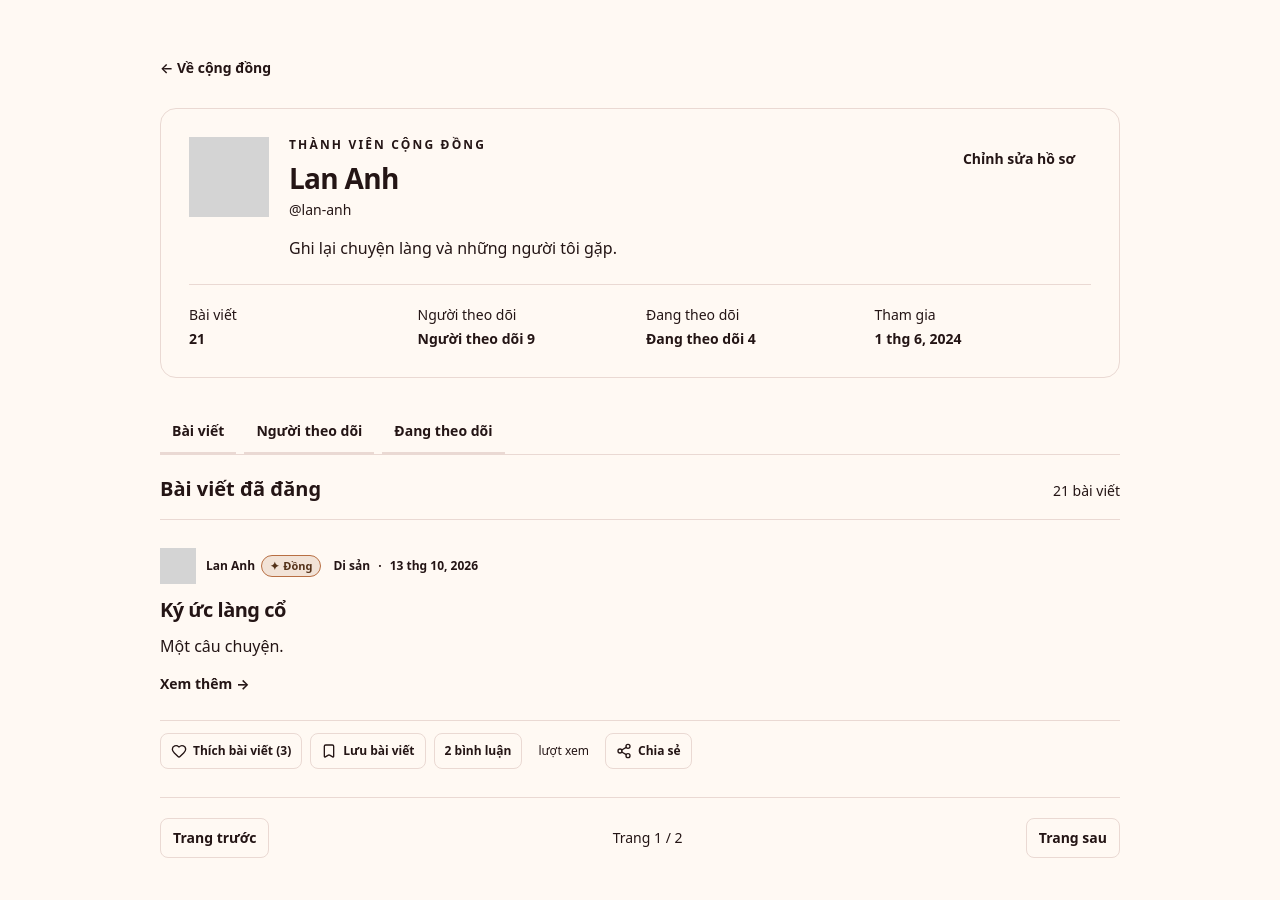
Test: CommunityMemberProfile › lets the owner edit only community identity fields
The width and height of the screenshot is (1280, 900).
Click the button "Chỉnh sửa hồ sơ": (1019, 159) 947,137 -> 1091,181
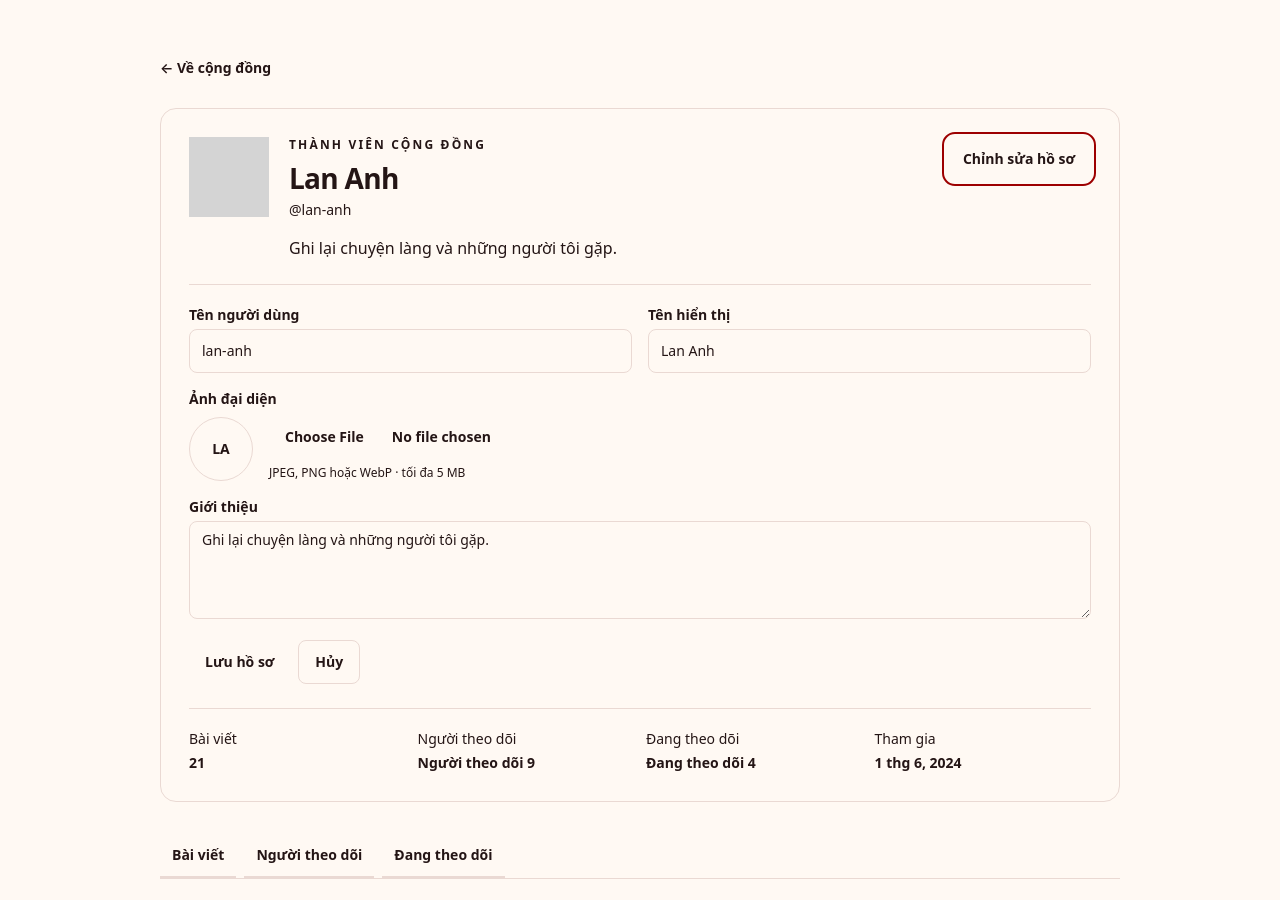
Replace the text in the field labelled "Tên hiển thị" with "Lan Anh mới": (870, 351) 648,329 -> 1091,373
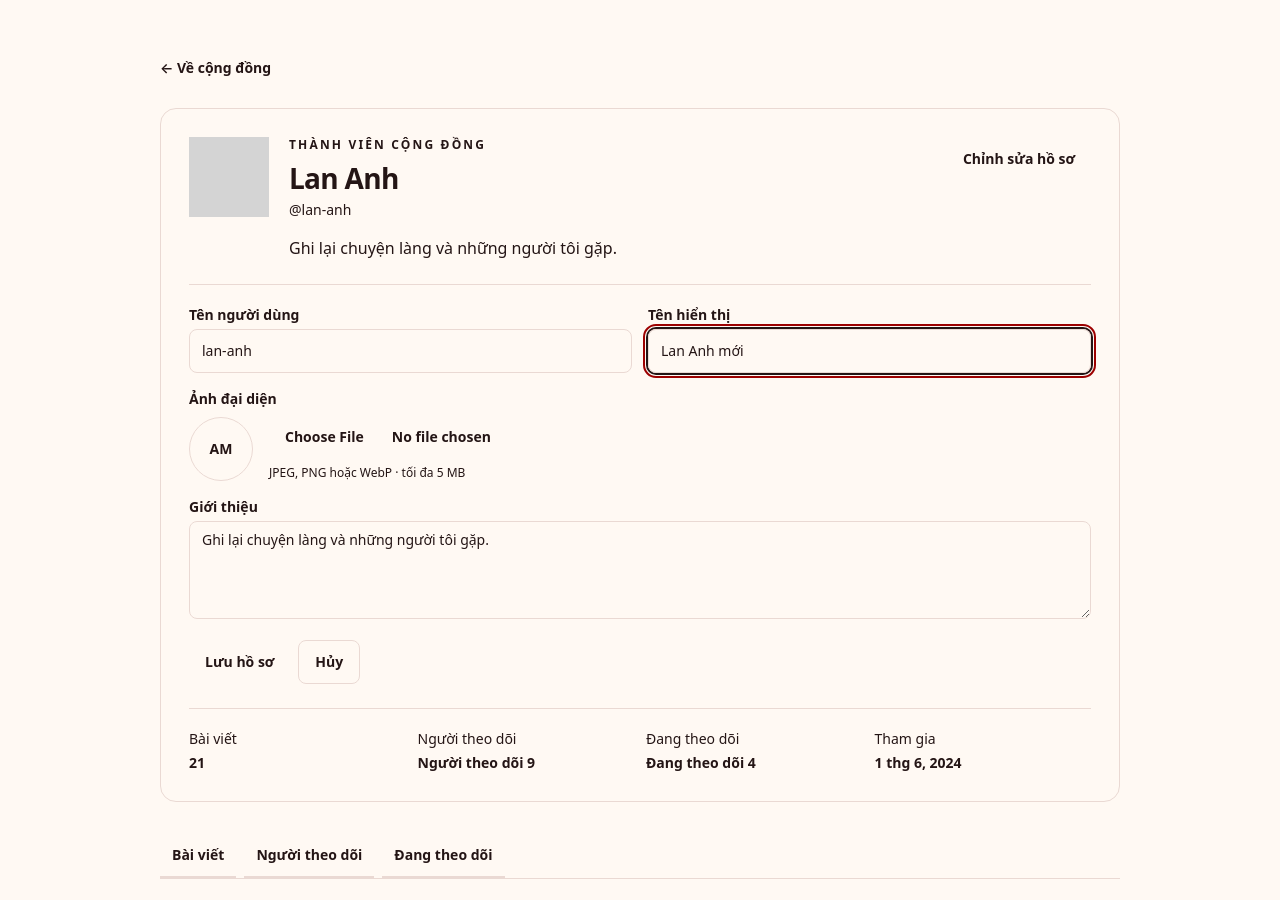
Click the button "Lưu hồ sơ": (240, 662) 189,640 -> 290,684
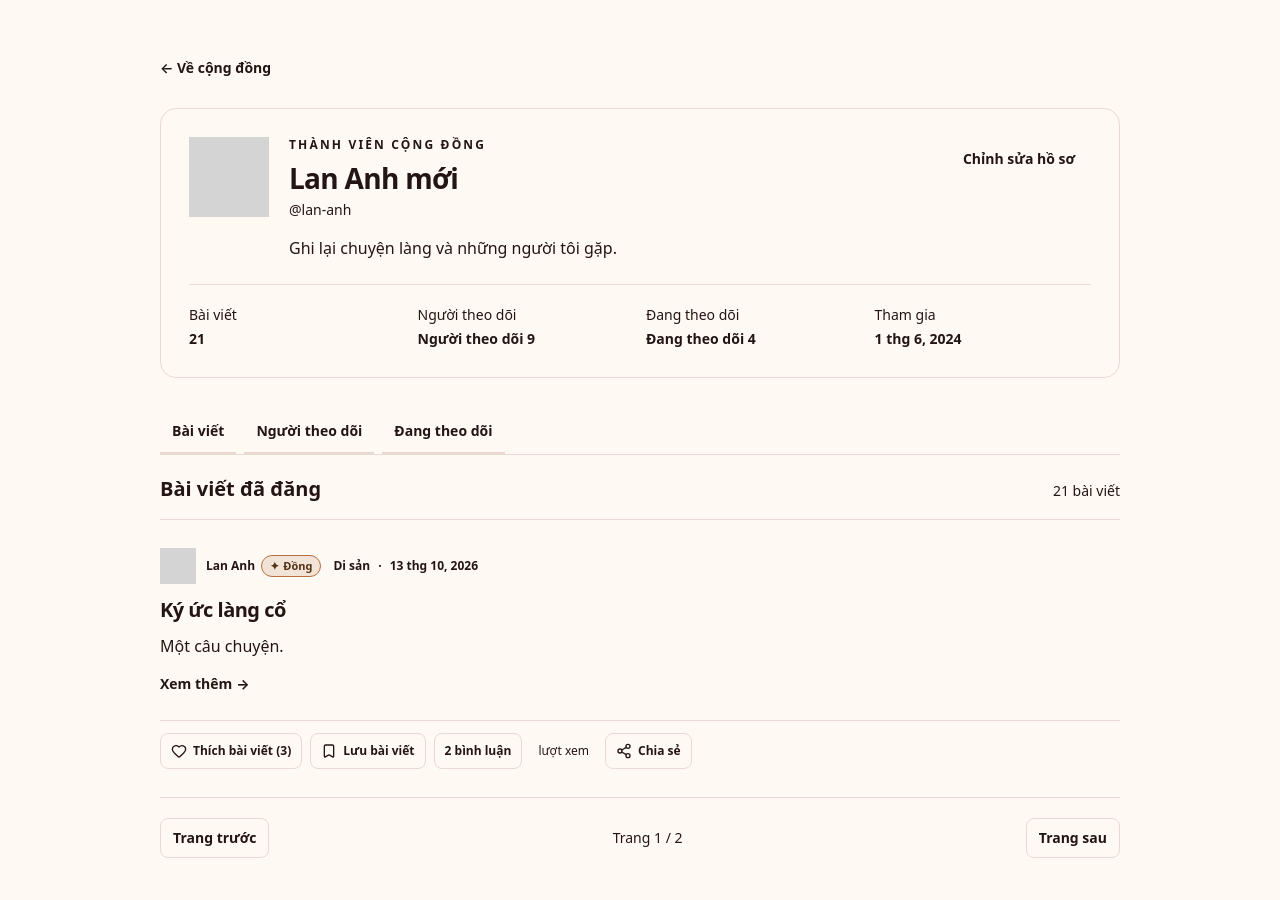
Expected: the heading "Lan Anh mới" is shown, 289,159 -> 458,197
